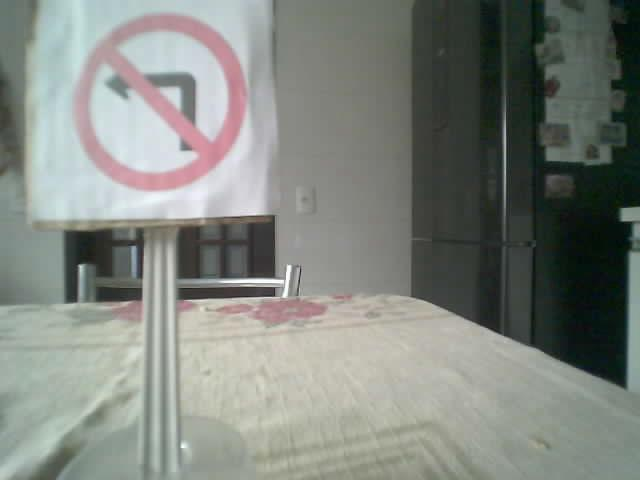R-4a_proibido-esquerda: (72, 12, 245, 191)
